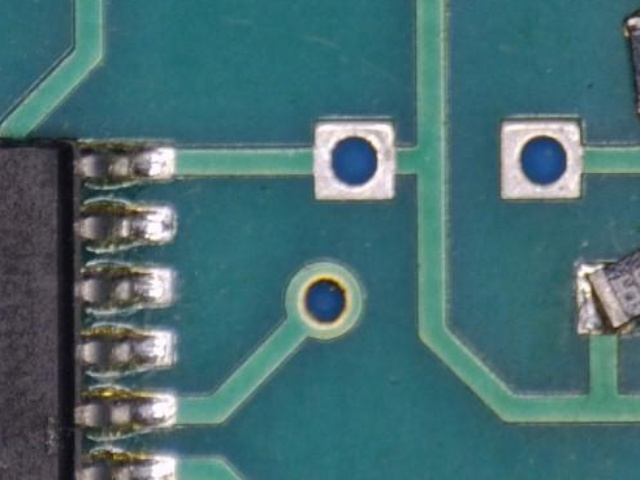pcb_defect: (575, 230, 640, 335), (622, 0, 640, 140)
